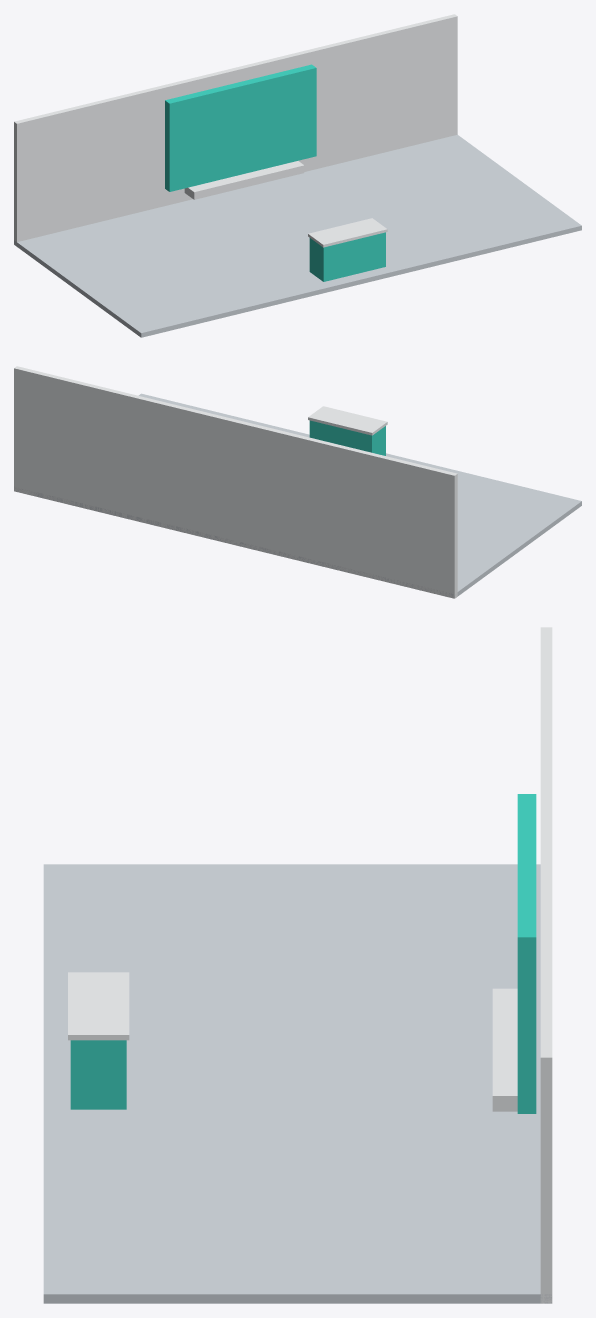
3 views of the same model, one above another, from view 1: azimuth 30°, elevation 25°; view 2: azimuth 150°, elevation 25°; view 3: azimuth 270°, elevation 25° (orthographic). The views are drawn at different scales.
Visible parts, largest first — view 1: Exhibition Booth Concept; view 2: Exhibition Booth Concept; view 3: Exhibition Booth Concept.
Boxes of the visible parts, x1=… form: Exhibition Booth Concept: x1=14, y1=14, x2=581, y2=337; Exhibition Booth Concept: x1=14, y1=366, x2=581, y2=598; Exhibition Booth Concept: x1=43, y1=627, x2=552, y2=1303.
Size of the model in its own units: 12 by 3.2 by 6.
